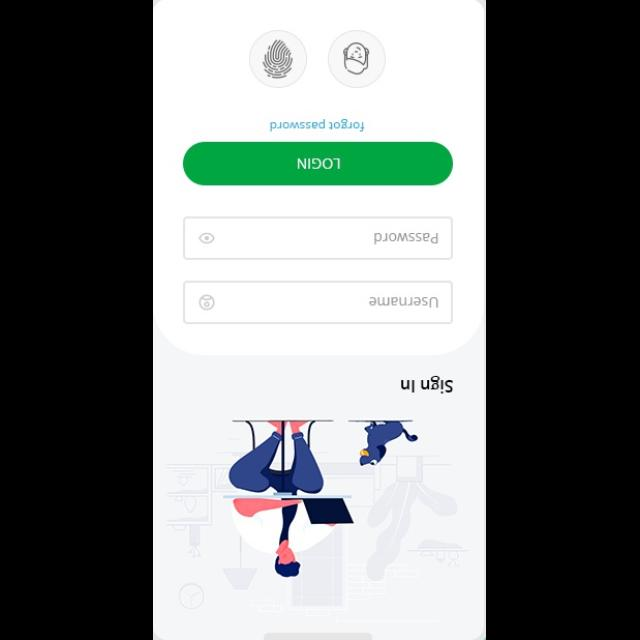icon: (199, 293, 215, 309), (199, 232, 215, 244)
image: (168, 418, 470, 622), (328, 31, 386, 88), (250, 31, 306, 88)
input: (184, 280, 454, 322), (184, 216, 454, 258)
text: (270, 118, 364, 132), (402, 375, 452, 393), (374, 232, 438, 244), (369, 296, 438, 306)
textbutton: (184, 142, 454, 185)
